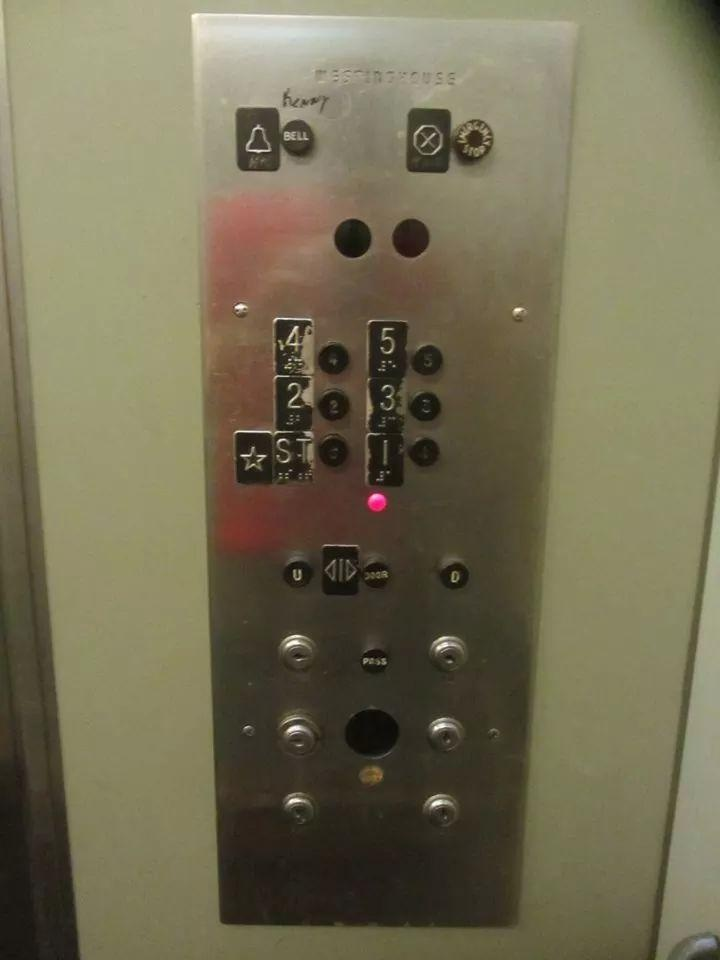0: (312, 431, 352, 470)
1: (360, 425, 408, 488), (405, 432, 445, 471)
2: (270, 369, 318, 432), (314, 385, 354, 424)
3: (362, 369, 412, 437), (406, 387, 446, 426)
4: (267, 311, 319, 379), (313, 338, 353, 377)
5: (361, 313, 411, 381), (407, 339, 447, 378)
D: (434, 555, 474, 594)
ST: (272, 425, 320, 488)
U: (277, 554, 317, 593)
alarm: (228, 100, 284, 177)
keyhole: (273, 629, 322, 679), (423, 631, 472, 681), (421, 709, 470, 759), (414, 786, 463, 836), (273, 783, 322, 833), (273, 710, 322, 760)
open: (315, 539, 363, 598)
s: (227, 425, 275, 488)
stop: (400, 100, 456, 177)
text: (449, 114, 498, 164), (278, 113, 318, 160), (359, 554, 399, 593), (354, 641, 394, 680)
